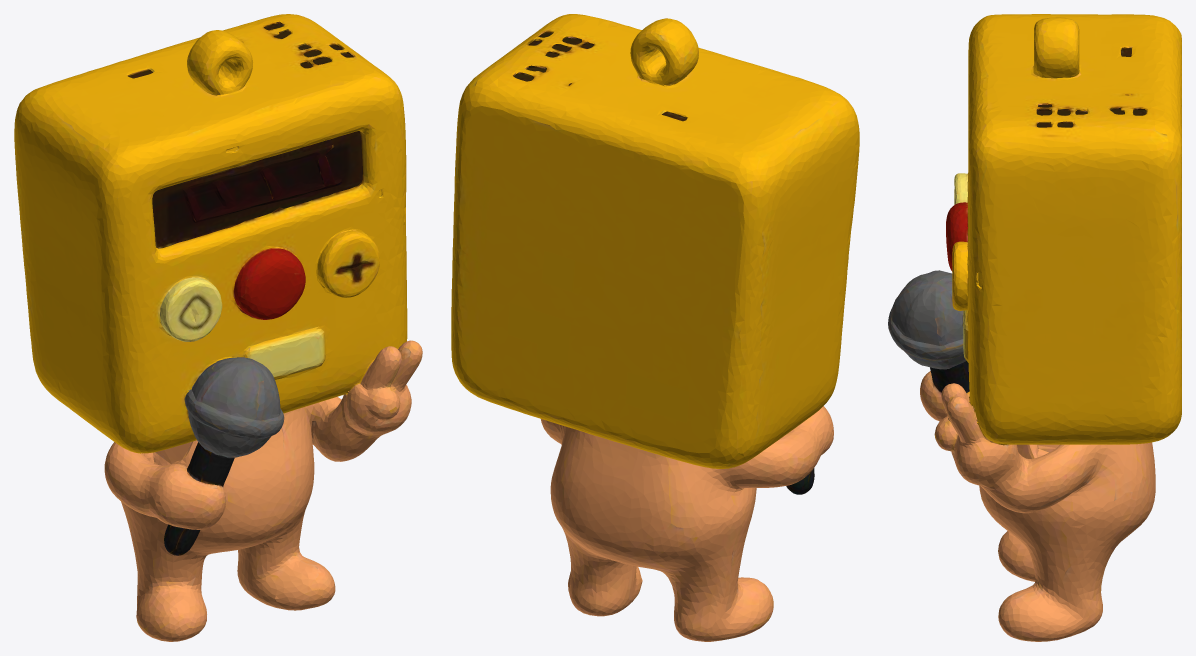
File: AnimePistol_Textured_00091_.glb
3 renders of one model, left to right at view 1: azimuth 30°, elevation 25°; view 2: azimuth 150°, elevation 25°; view 3: azimuth 270°, elevation 25°, orthographic. The views are drawn at different scales.
Visible parts, largest first — view 1: world; view 2: world; view 3: world.
Part boxes in pixels (x1=…): world: x1=14, y1=14, x2=422, y2=641; world: x1=451, y1=14, x2=859, y2=641; world: x1=888, y1=14, x2=1181, y2=641.
Bounding box in the file's own units: 0.5621 × 1 × 0.4588.
1 material, 1 textured.
